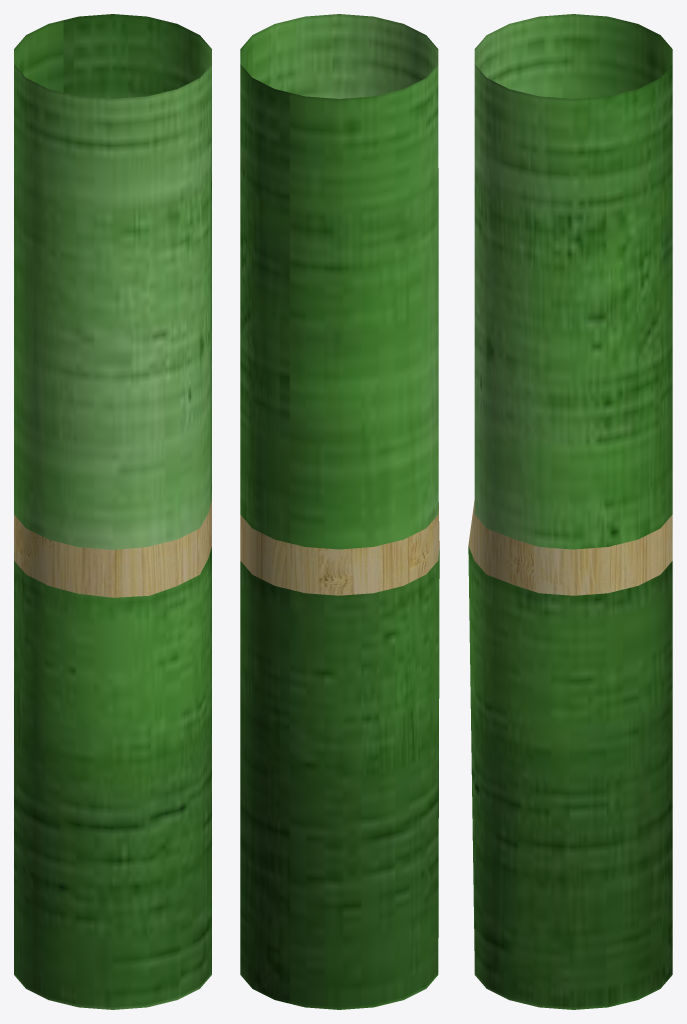
File: bamboo_target.FBX
3 renders of one model, left to right at view 1: azimuth 30°, elevation 25°; view 2: azimuth 150°, elevation 25°; view 3: azimuth 270°, elevation 25°, orthographic.
Parts seen in each view (by area): view 1: Cylinder005; view 2: Cylinder005; view 3: Cylinder005.
Boxes of the visible parts, left/top/right/bottom form: Cylinder005: left=14, top=14, right=211, bottom=1009; Cylinder005: left=240, top=14, right=439, bottom=1009; Cylinder005: left=468, top=14, right=672, bottom=1009.
Size of the model in its own units: 7.87 by 39.37 by 8.
3 materials, 3 textured.
